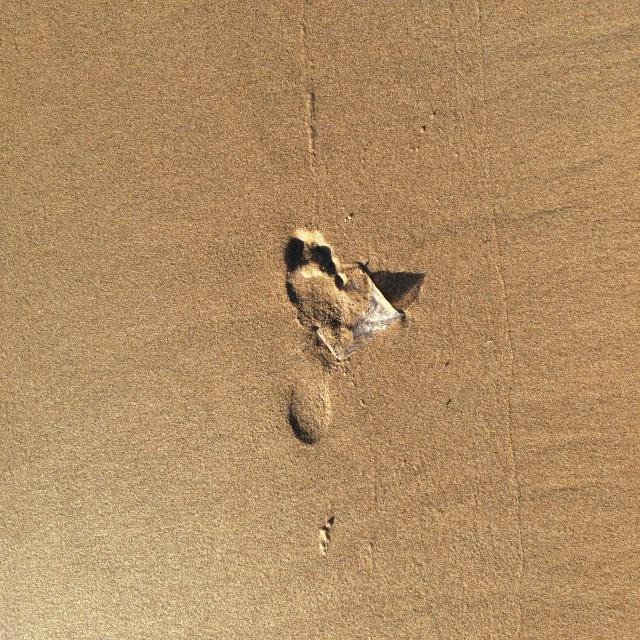Plastic film: (317, 269, 404, 360)
